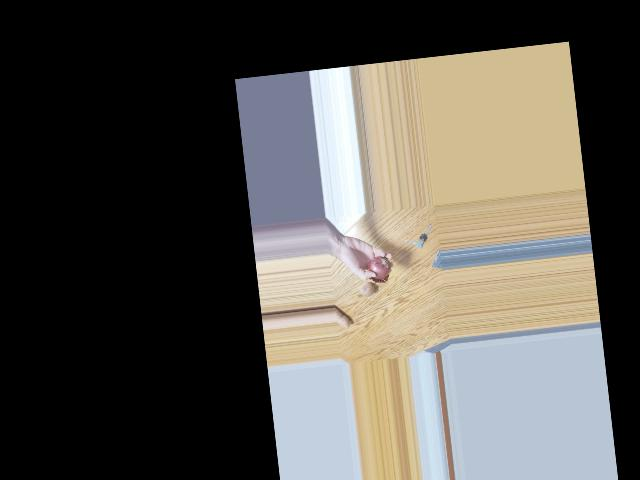onion: (368, 256, 391, 279)
